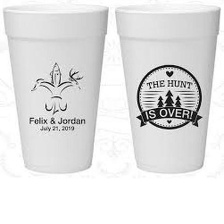paper_cup: (111, 0, 224, 179), (0, 0, 110, 177)
